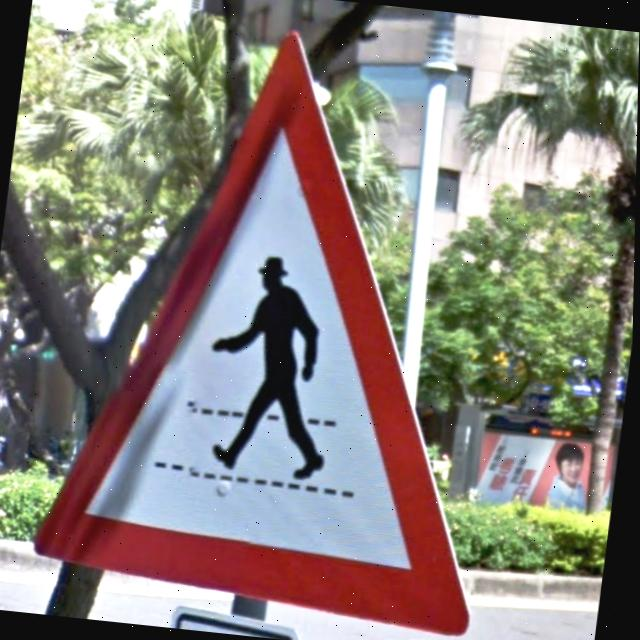pedestriancross: (38, 33, 474, 638)
